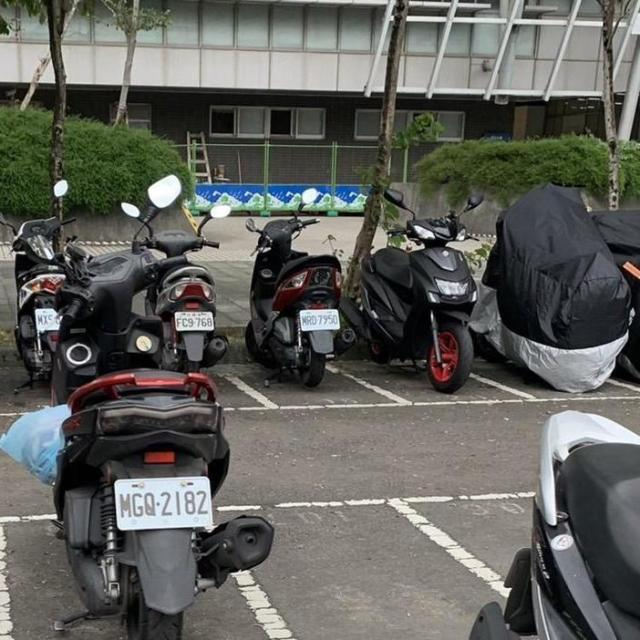W: (104, 473, 220, 534), (166, 306, 219, 336), (294, 304, 346, 334), (24, 302, 66, 334)
